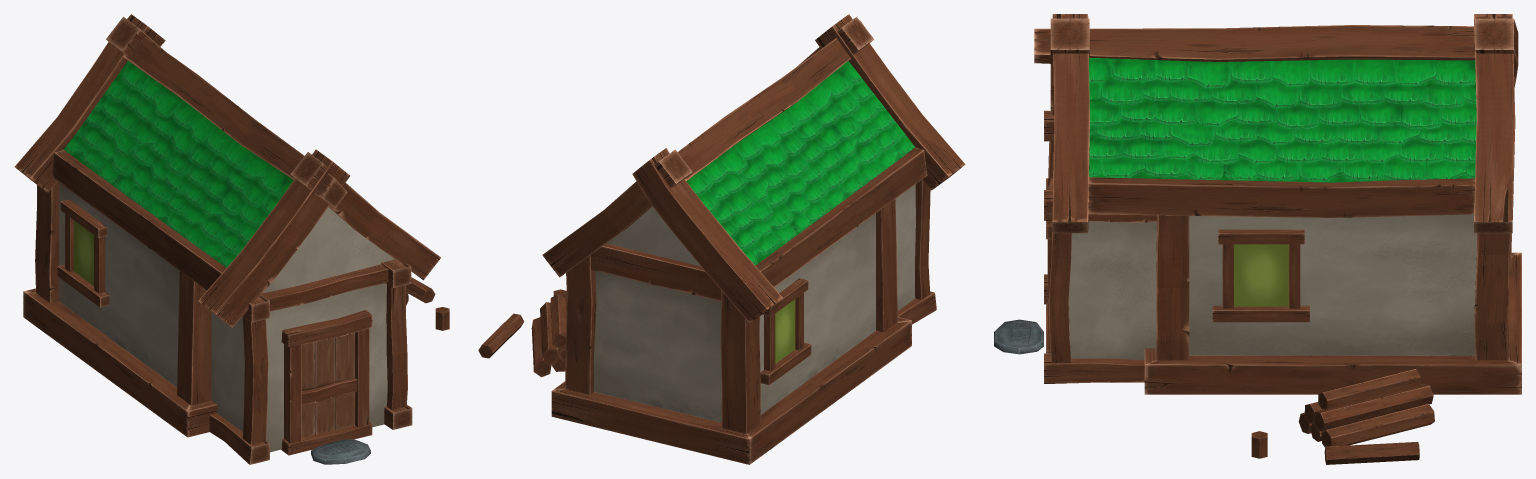
File: medival building.fbx
3 views of the same model, side by side, from view 1: azimuth 30°, elevation 25°; view 2: azimuth 150°, elevation 25°; view 3: azimuth 270°, elevation 25° (orthographic). The views are drawn at different scales.
Parts seen in each view (by area): view 1: Cube, Cube.001, Cylinder; view 2: Cube, Cylinder; view 3: Cube, Cylinder, Cube.001.
Boxes of the visible parts, x1=… form: Cube: x1=14, y1=14, x2=440, y2=464; Cube.001: x1=311, y1=439, x2=370, y2=464; Cylinder: x1=406, y1=277, x2=435, y2=305; Cube: x1=542, y1=14, x2=965, y2=464; Cylinder: x1=478, y1=294, x2=566, y2=377; Cube: x1=1034, y1=14, x2=1521, y2=394; Cylinder: x1=1298, y1=369, x2=1434, y2=464; Cube.001: x1=994, y1=319, x2=1043, y2=354.
Bounding box in the file's own units: 409 × 323 × 477.
